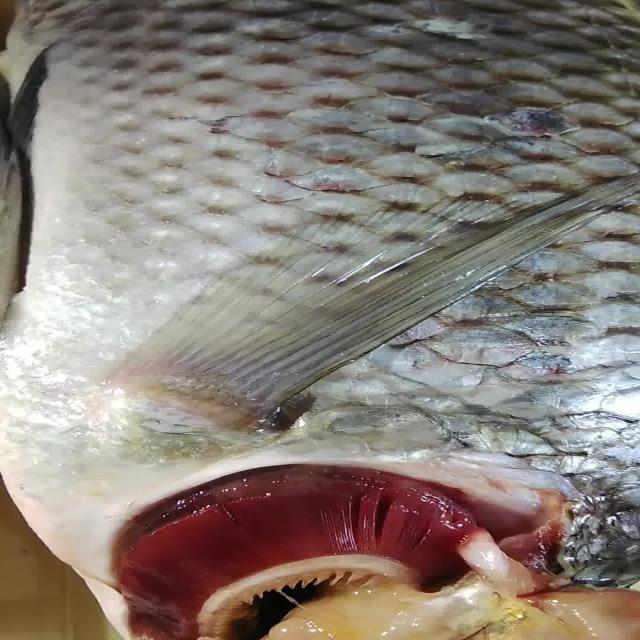Fresh: (75, 455, 521, 640)
